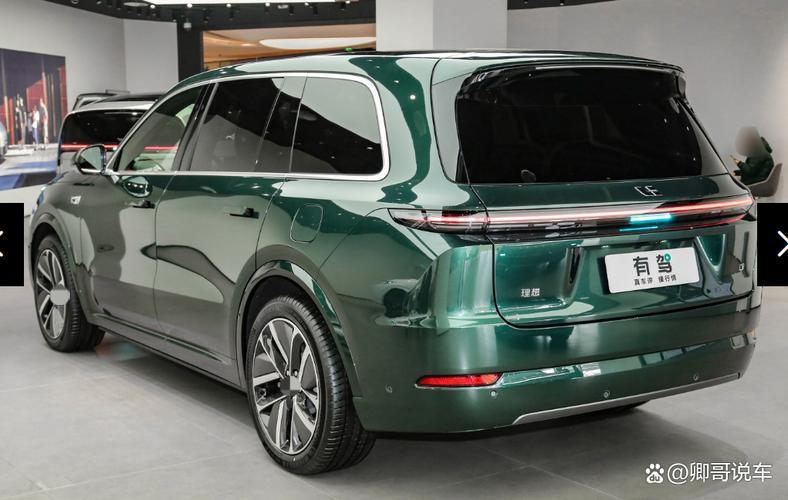Li Auto: (634, 184, 664, 198)
